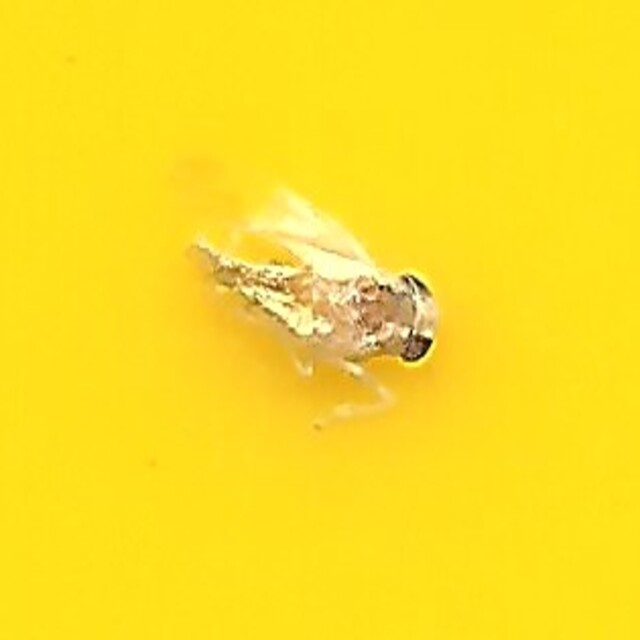Hemiptera: (203, 248, 437, 392)
